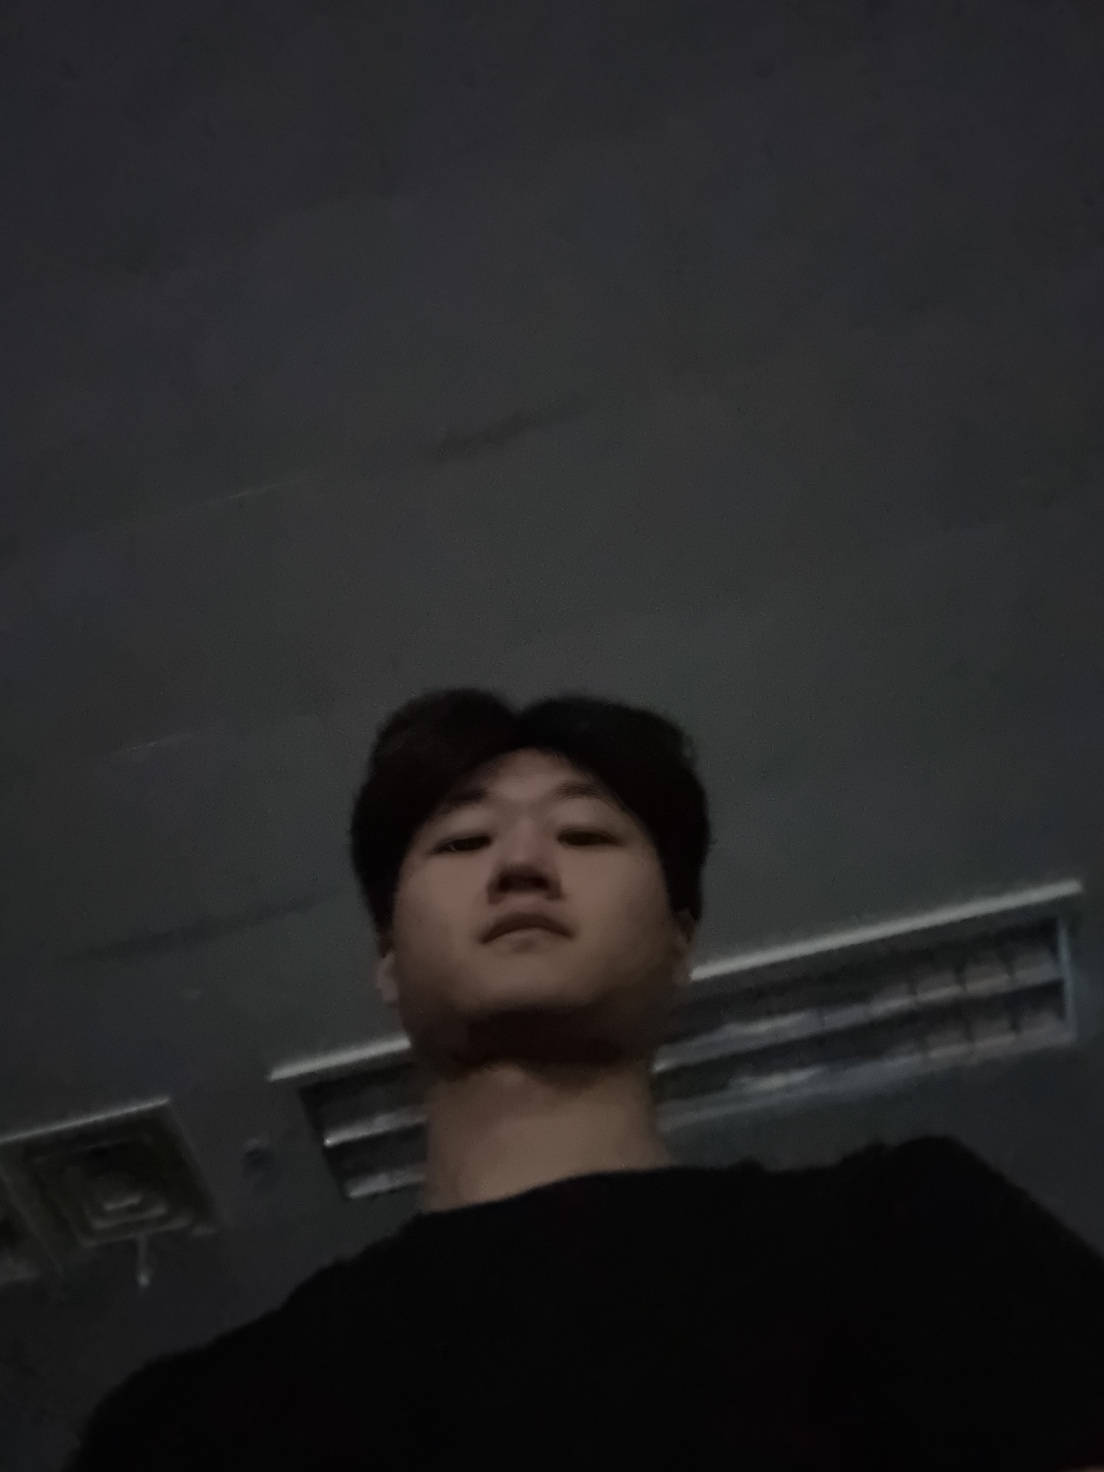Non-Helmet: (306, 647, 799, 1113)
